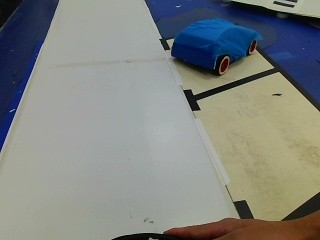car: (169, 18, 259, 78)
